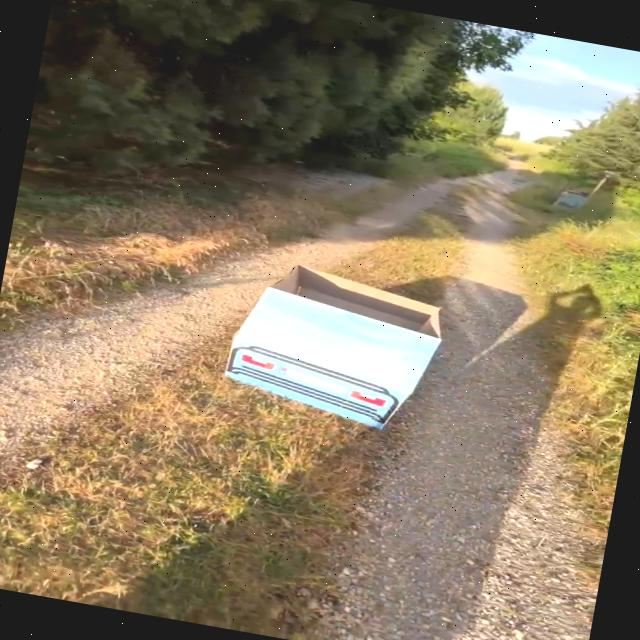blue_car: (157, 216, 504, 466)
